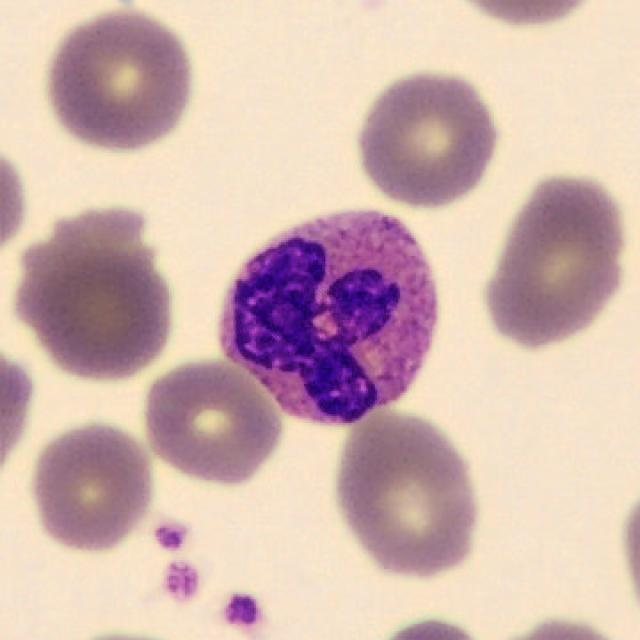Neutrofilo segmentado: (219, 210, 437, 428)
